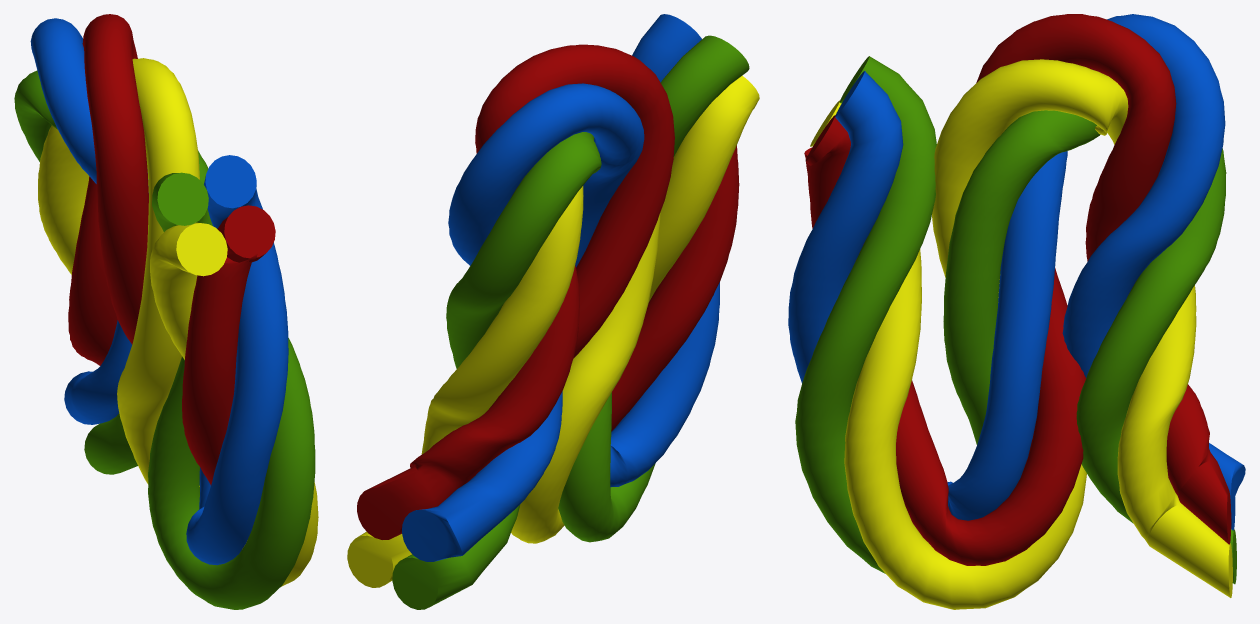
File: Wires_Ram.fbx
The picture shows the model from 3 angles, left to right: view 1: azimuth 30°, elevation 25°; view 2: azimuth 150°, elevation 25°; view 3: azimuth 270°, elevation 25°; orthographic projection. The views are drawn at different scales.
Visible parts, largest first — view 1: pCylinder5; view 2: pCylinder5; view 3: pCylinder5.
Boxes of the visible parts, left/top/right/bottom form: pCylinder5: left=14, top=14, right=318, bottom=609; pCylinder5: left=347, top=14, right=759, bottom=609; pCylinder5: left=788, top=14, right=1245, bottom=609.
Bounding box in the file's own units: 4.66 × 11.37 × 8.59.
